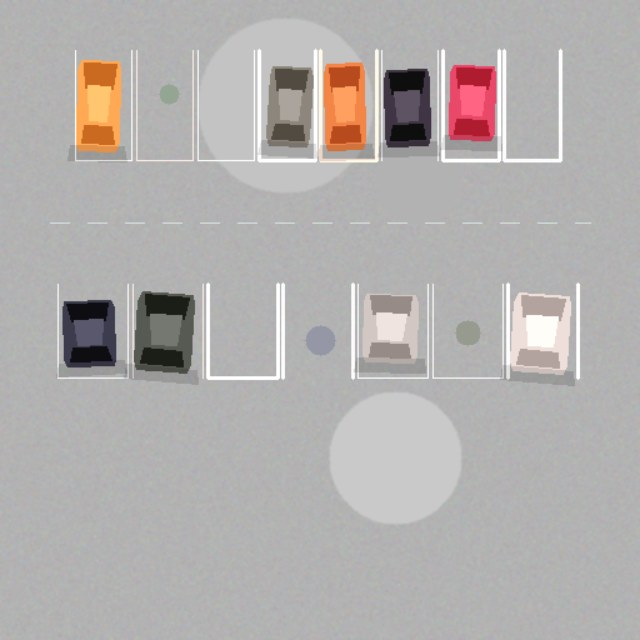space-empty: (207, 284, 277, 378), (283, 284, 353, 378), (433, 284, 503, 378), (136, 50, 193, 160), (197, 50, 254, 160), (504, 50, 560, 160)
space-occupied: (57, 284, 127, 378), (133, 284, 203, 378), (357, 284, 427, 378), (507, 284, 577, 378), (75, 50, 131, 160), (259, 50, 315, 160), (320, 50, 376, 160), (381, 50, 437, 160), (443, 50, 499, 160)
